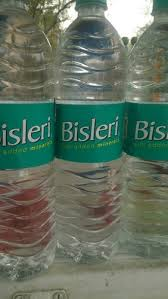Bisleri: (57, 110, 124, 156), (1, 107, 50, 159), (134, 111, 168, 147)
plastic: (4, 3, 51, 265), (59, 36, 116, 250), (134, 47, 165, 225)
